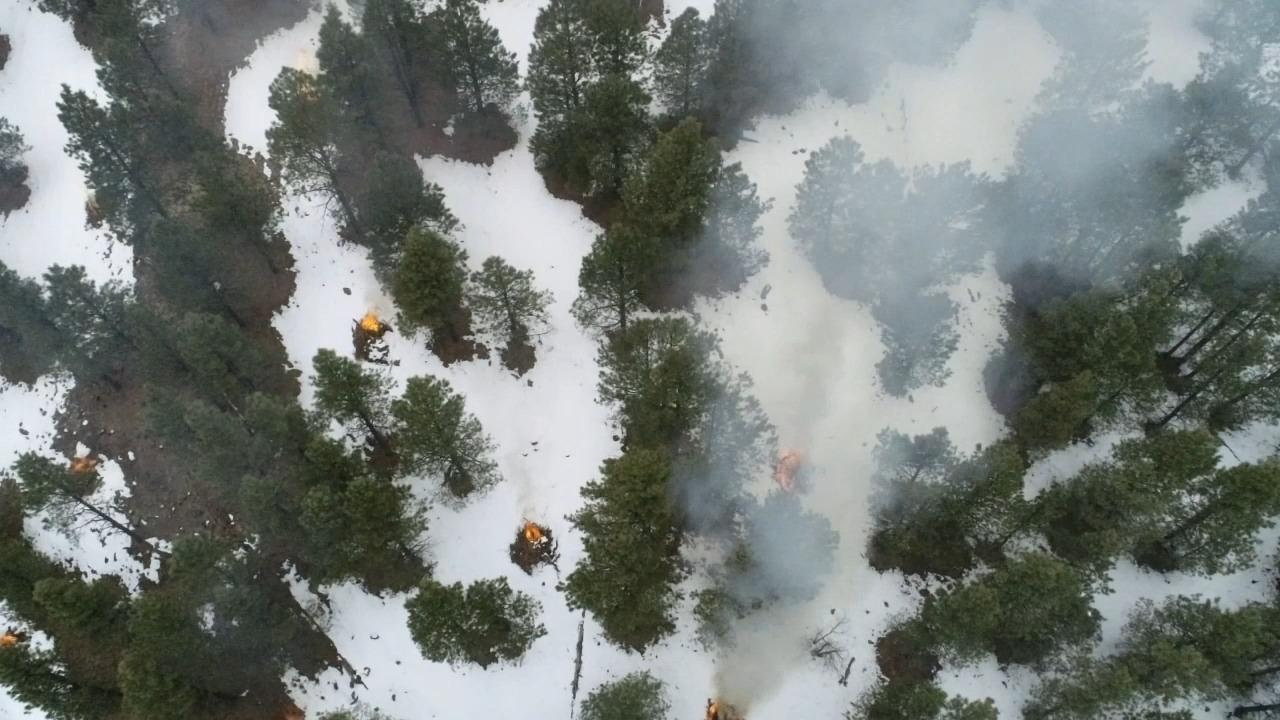fire: (520, 514, 551, 548), (357, 305, 386, 329)
smoke: (667, 0, 1280, 267), (674, 272, 1108, 546), (713, 551, 819, 617)
